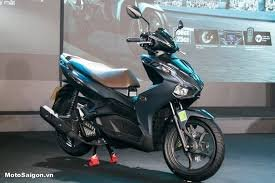motor: (41, 28, 226, 180)
